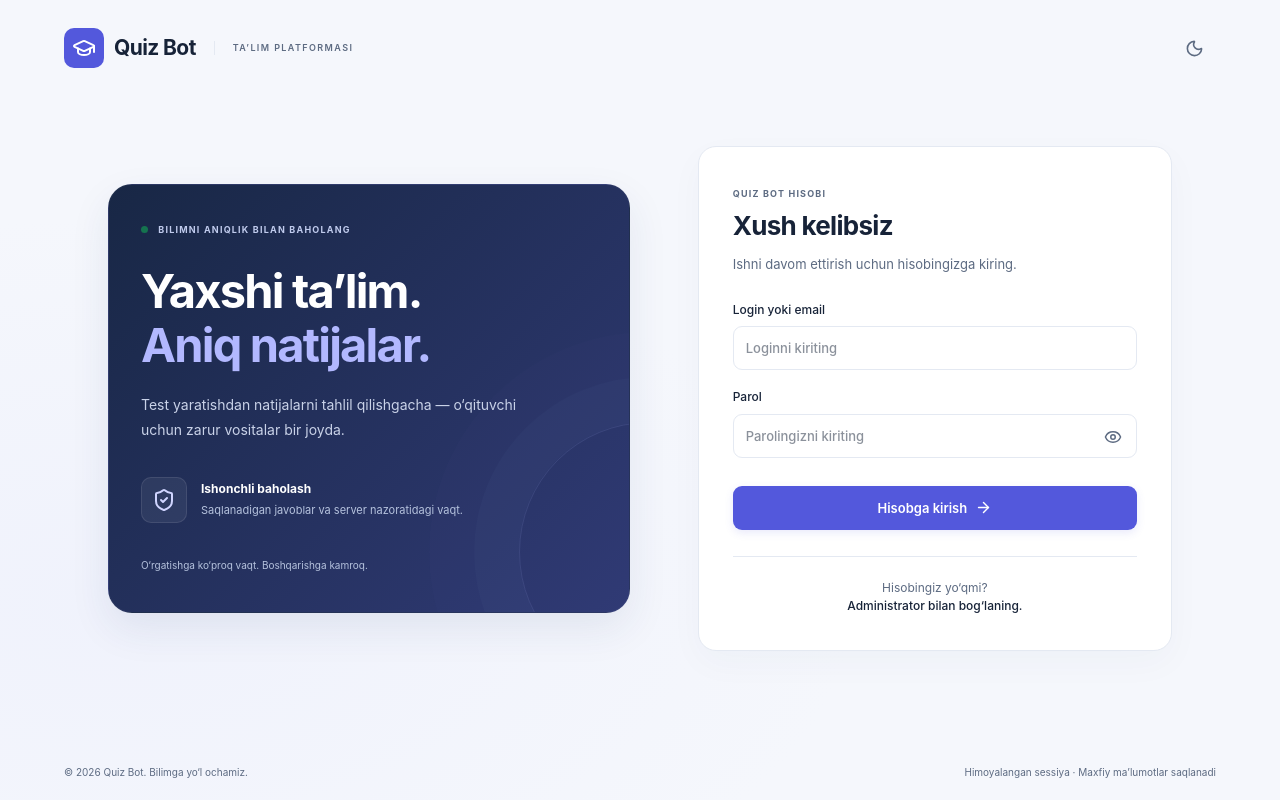
Test: Accessible production components › login validates required fields without sending credentials
Click the button "Hisobga kirish".
click(935, 508)  # box [733,486,1137,530]
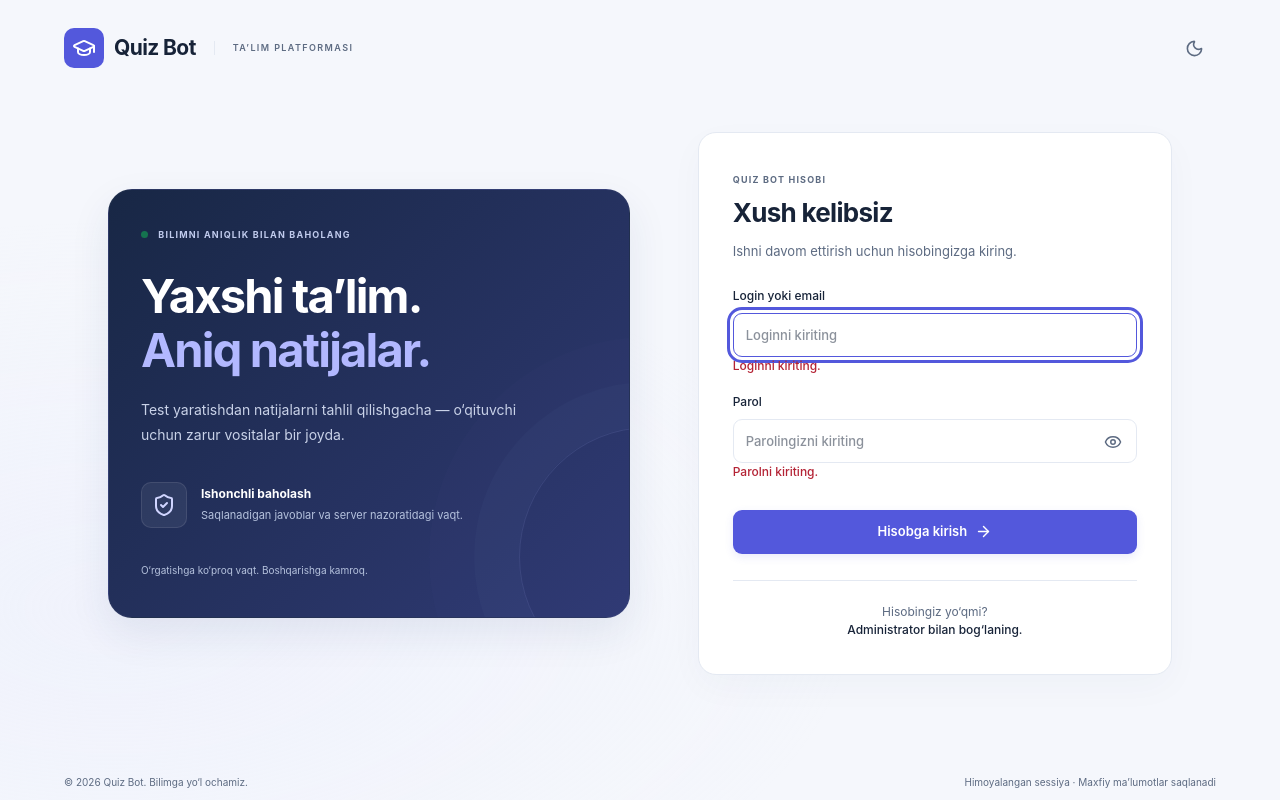
Now the text "Loginni kiriting." is shown, box [733,358,821,373]
Now the text "Parolni kiriting." is shown, box [733,464,818,479]
